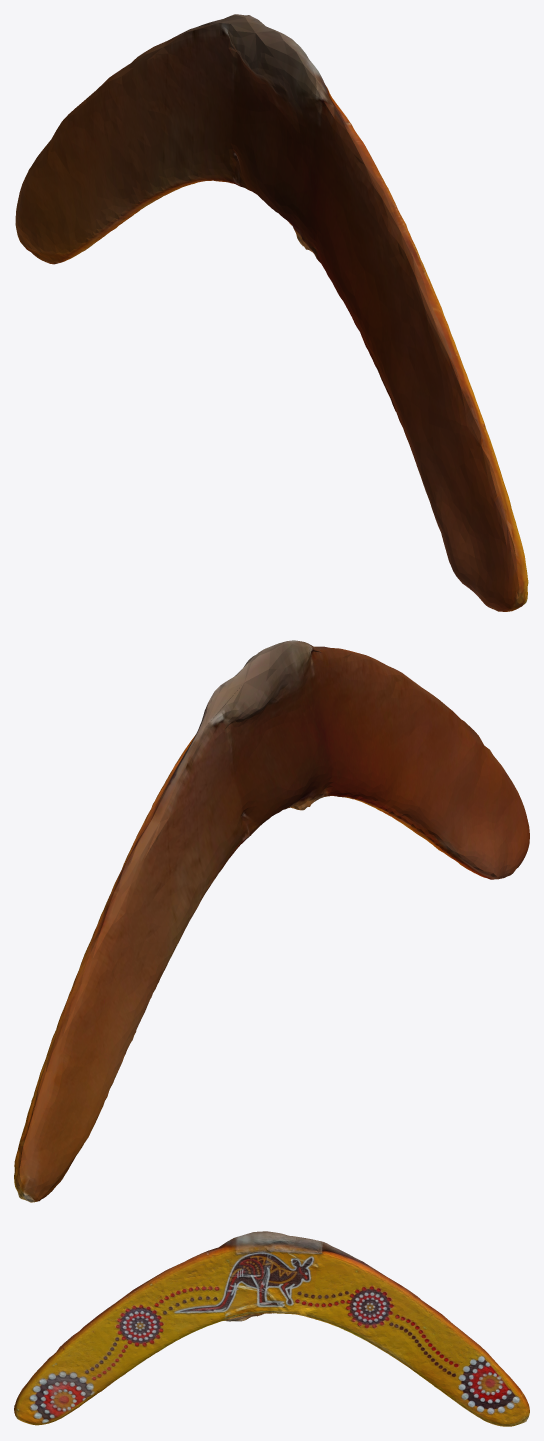
File: boomerang.obj
3 views of the same model, one above another, from view 1: azimuth 30°, elevation 25°; view 2: azimuth 150°, elevation 25°; view 3: azimuth 270°, elevation 25° (orthographic). The views are drawn at different scales.
Parts seen in each view (by area): view 1: poly; view 2: poly; view 3: poly.
Boxes of the visible parts, <box> form: poly: <box>15,14,528,611</box>; poly: <box>14,640,529,1202</box>; poly: <box>14,1231,529,1426</box>.
Bounding box in the file's own units: 0.0534 × 0.406 × 0.961.
Materials: 1 (1 with a texture image).
